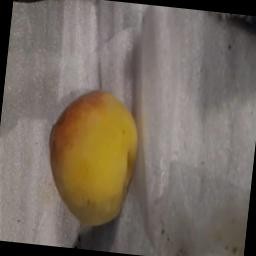Peach Unripe: (34, 82, 154, 241)
